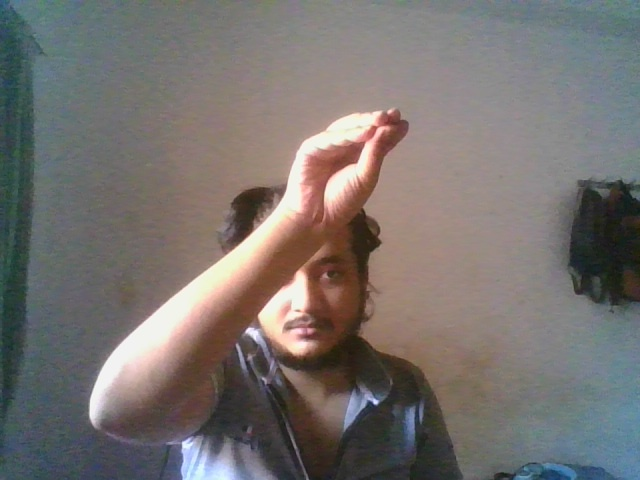Mouth: (291, 107, 410, 226)
